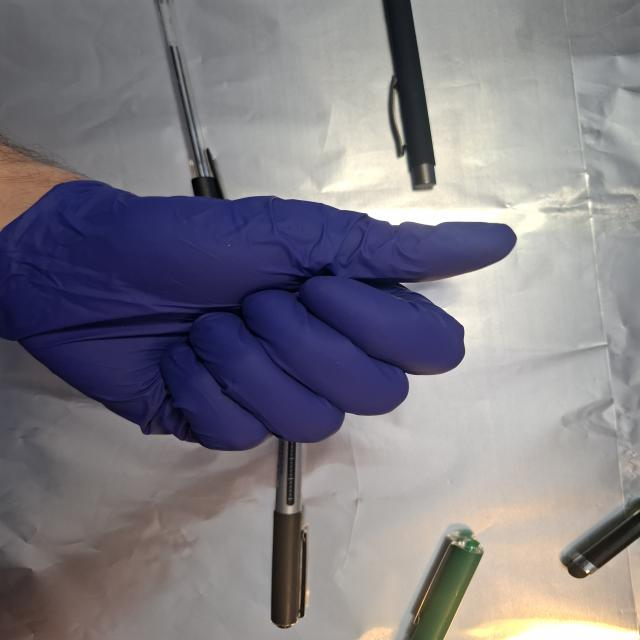glove_on: (0, 176, 523, 454)
